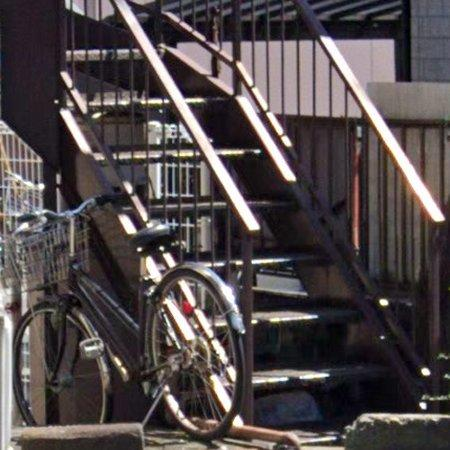stairs: (57, 0, 429, 436)
